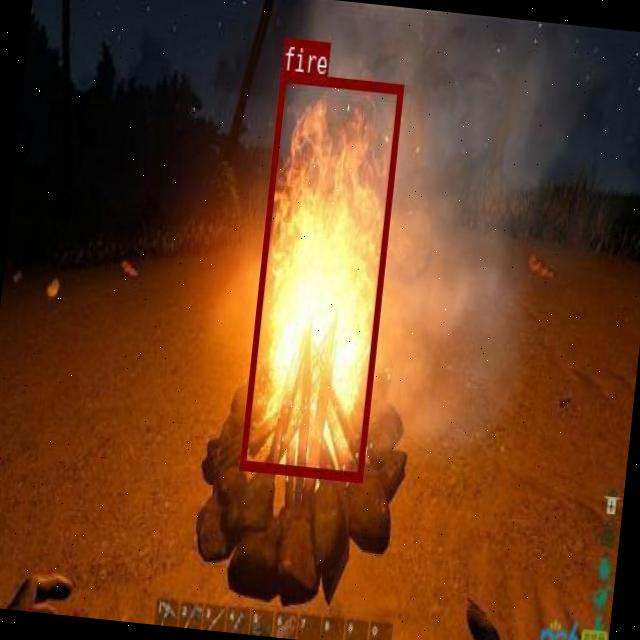fire: (239, 70, 402, 480)
